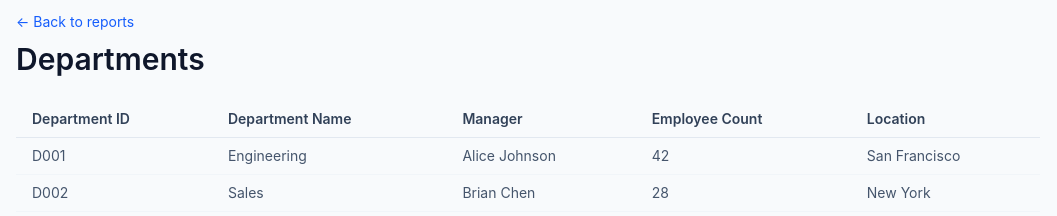
Test case: ReportDetailPage (departments) › shows a sort indicator on a column header after it is clicked
Expected: the text "Engineering" is shown, top-left (212, 138), bottom-right (446, 174)
Click the column heading "Department Name" at (329, 119), box top-left (212, 101), bottom-right (446, 138)
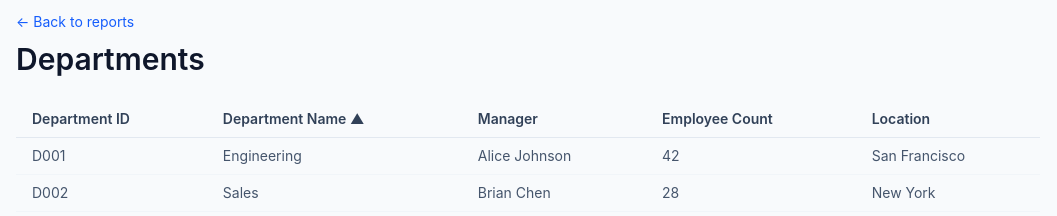
Now the column heading "Department Name" reads "Department Name ▲", box top-left (346, 110), bottom-right (364, 127)
